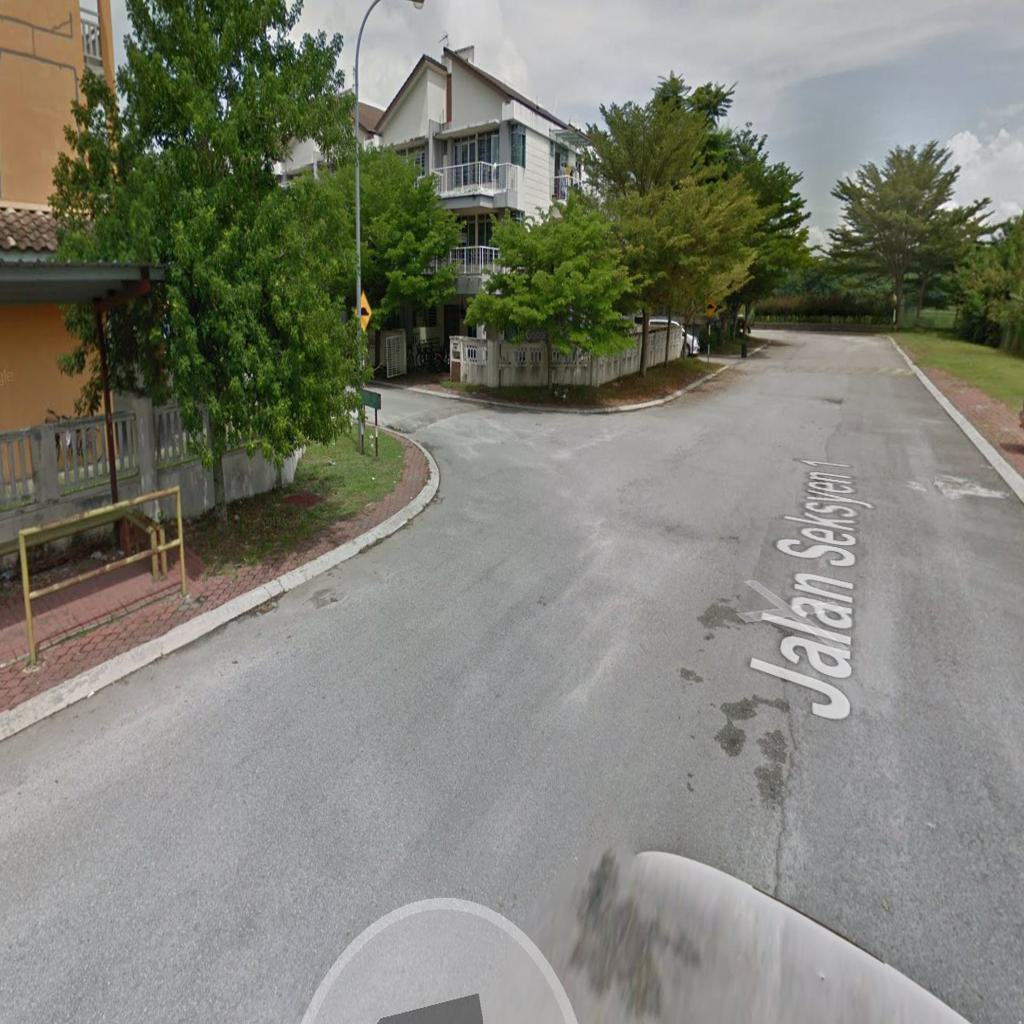Junction: (367, 366, 617, 533)
